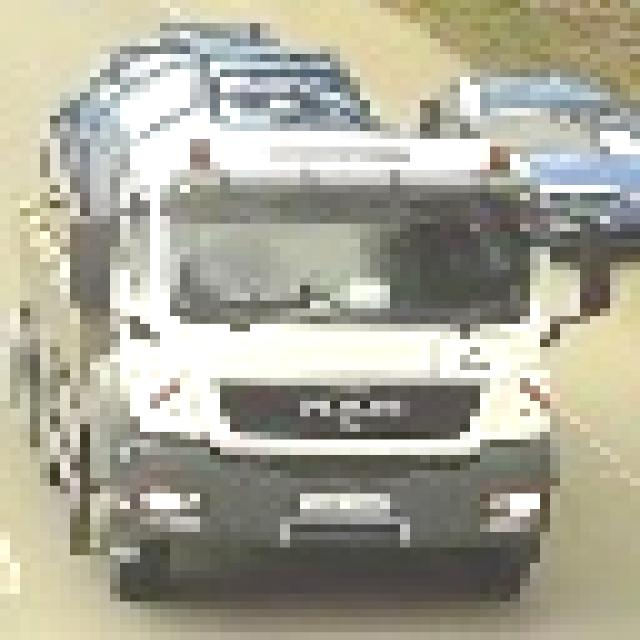truck: (1, 9, 611, 618)
